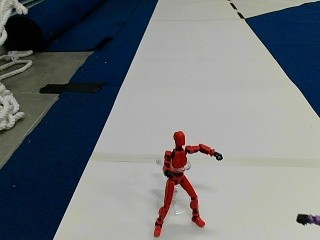pedestrian: (153, 130, 219, 234)
